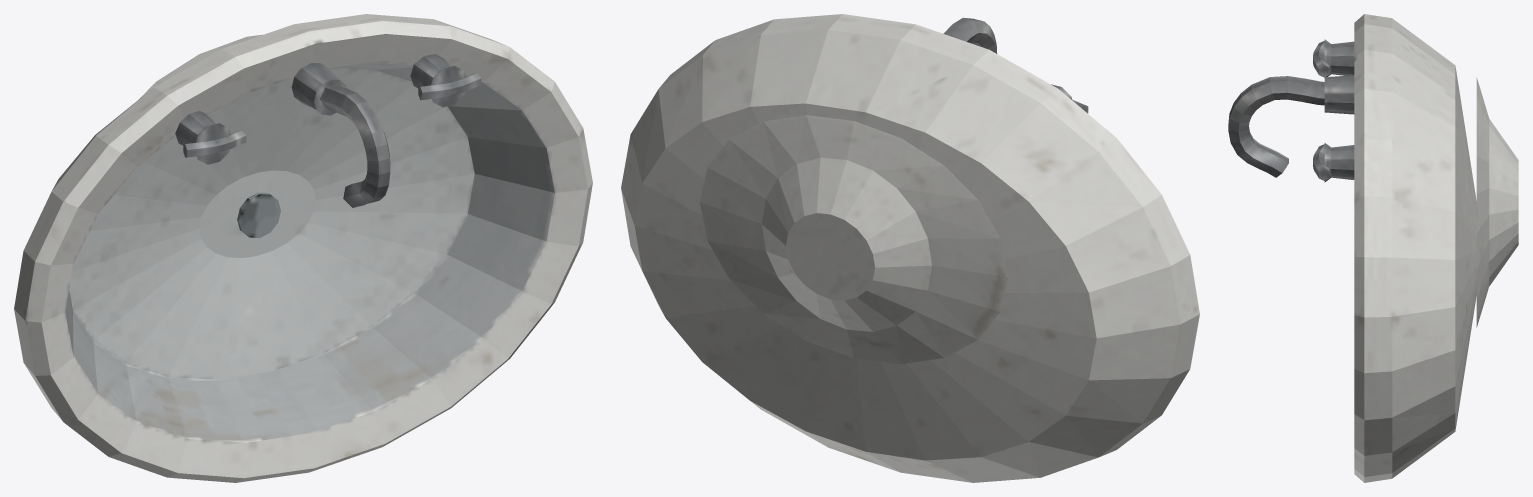
Rendered from pz_sink_white_hanging.obj.
The picture shows the model from 3 angles, left to right: view 1: azimuth 30°, elevation 25°; view 2: azimuth 150°, elevation 25°; view 3: azimuth 270°, elevation 25°; orthographic projection. The views are drawn at different scales.
Parts seen in each view (by area): view 1: pz_sink_white_hanging_|_open_rounded_ceramic_bowl, pz_sink_white_hanging_|_EDITABLE_curved_spout_|_export_mesh, pz_sink_white_hanging_|_faucet_socket, pz_sink_white_hanging_|_drain_disc, pz_sink_white_hanging_|_tap_stem_0.145, pz_sink_white_hanging_|_tap_stem_-0.145, pz_sink_white_hanging_|_EDITABLE_curved_tap_lever_-0.145_|_expor, pz_sink_white_hanging_|_EDITABLE_curved_tap_lever_0.145_|_export, pz_sink_white_hanging_|_closed_curved_underside; view 2: pz_sink_white_hanging_|_open_rounded_ceramic_bowl, pz_sink_white_hanging_|_closed_curved_underside, pz_sink_white_hanging_|_EDITABLE_curved_spout_|_export_mesh; view 3: pz_sink_white_hanging_|_open_rounded_ceramic_bowl, pz_sink_white_hanging_|_closed_curved_underside, pz_sink_white_hanging_|_EDITABLE_curved_spout_|_export_mesh, pz_sink_white_hanging_|_faucet_socket, pz_sink_white_hanging_|_tap_stem_0.145, pz_sink_white_hanging_|_tap_stem_-0.145, pz_sink_white_hanging_|_EDITABLE_curved_tap_lever_0.145_|_export, pz_sink_white_hanging_|_EDITABLE_curved_tap_lever_-0.145_|_expor.
Boxes of the visible parts, x1,y1,x2,y2 form: pz_sink_white_hanging_|_open_rounded_ceramic_bowl: [14, 14, 592, 482]; pz_sink_white_hanging_|_EDITABLE_curved_spout_|_export_mesh: [320, 84, 390, 207]; pz_sink_white_hanging_|_faucet_socket: [291, 63, 346, 115]; pz_sink_white_hanging_|_drain_disc: [237, 192, 280, 237]; pz_sink_white_hanging_|_tap_stem_0.145: [410, 54, 466, 107]; pz_sink_white_hanging_|_tap_stem_-0.145: [175, 111, 231, 164]; pz_sink_white_hanging_|_EDITABLE_curved_tap_lever_-0.145_|_expor: [183, 130, 246, 157]; pz_sink_white_hanging_|_EDITABLE_curved_tap_lever_0.145_|_export: [418, 73, 481, 100]; pz_sink_white_hanging_|_closed_curved_underside: [138, 34, 262, 99]; pz_sink_white_hanging_|_open_rounded_ceramic_bowl: [621, 14, 1199, 482]; pz_sink_white_hanging_|_closed_curved_underside: [700, 115, 1007, 364]; pz_sink_white_hanging_|_EDITABLE_curved_spout_|_export_mesh: [943, 17, 997, 53]; pz_sink_white_hanging_|_open_rounded_ceramic_bowl: [1354, 14, 1476, 482]; pz_sink_white_hanging_|_closed_curved_underside: [1476, 77, 1518, 327]; pz_sink_white_hanging_|_EDITABLE_curved_spout_|_export_mesh: [1228, 76, 1324, 177]; pz_sink_white_hanging_|_faucet_socket: [1324, 75, 1354, 114]; pz_sink_white_hanging_|_tap_stem_0.145: [1324, 143, 1354, 182]; pz_sink_white_hanging_|_tap_stem_-0.145: [1324, 39, 1354, 76]; pz_sink_white_hanging_|_EDITABLE_curved_tap_lever_0.145_|_export: [1313, 144, 1330, 180]; pz_sink_white_hanging_|_EDITABLE_curved_tap_lever_-0.145_|_expor: [1313, 41, 1330, 77].
Bounding box in the file's own units: 0.7 × 0.52 × 0.3443.
Materials: 1 (1 with a texture image).
